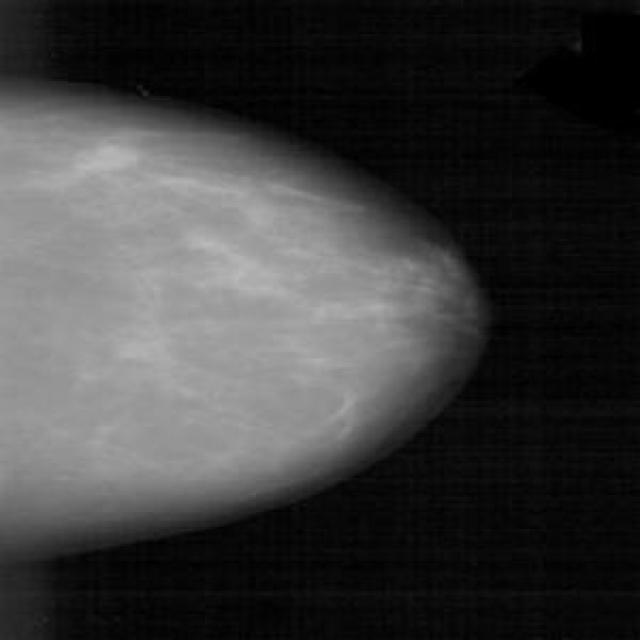tumor: (41, 132, 152, 198)
